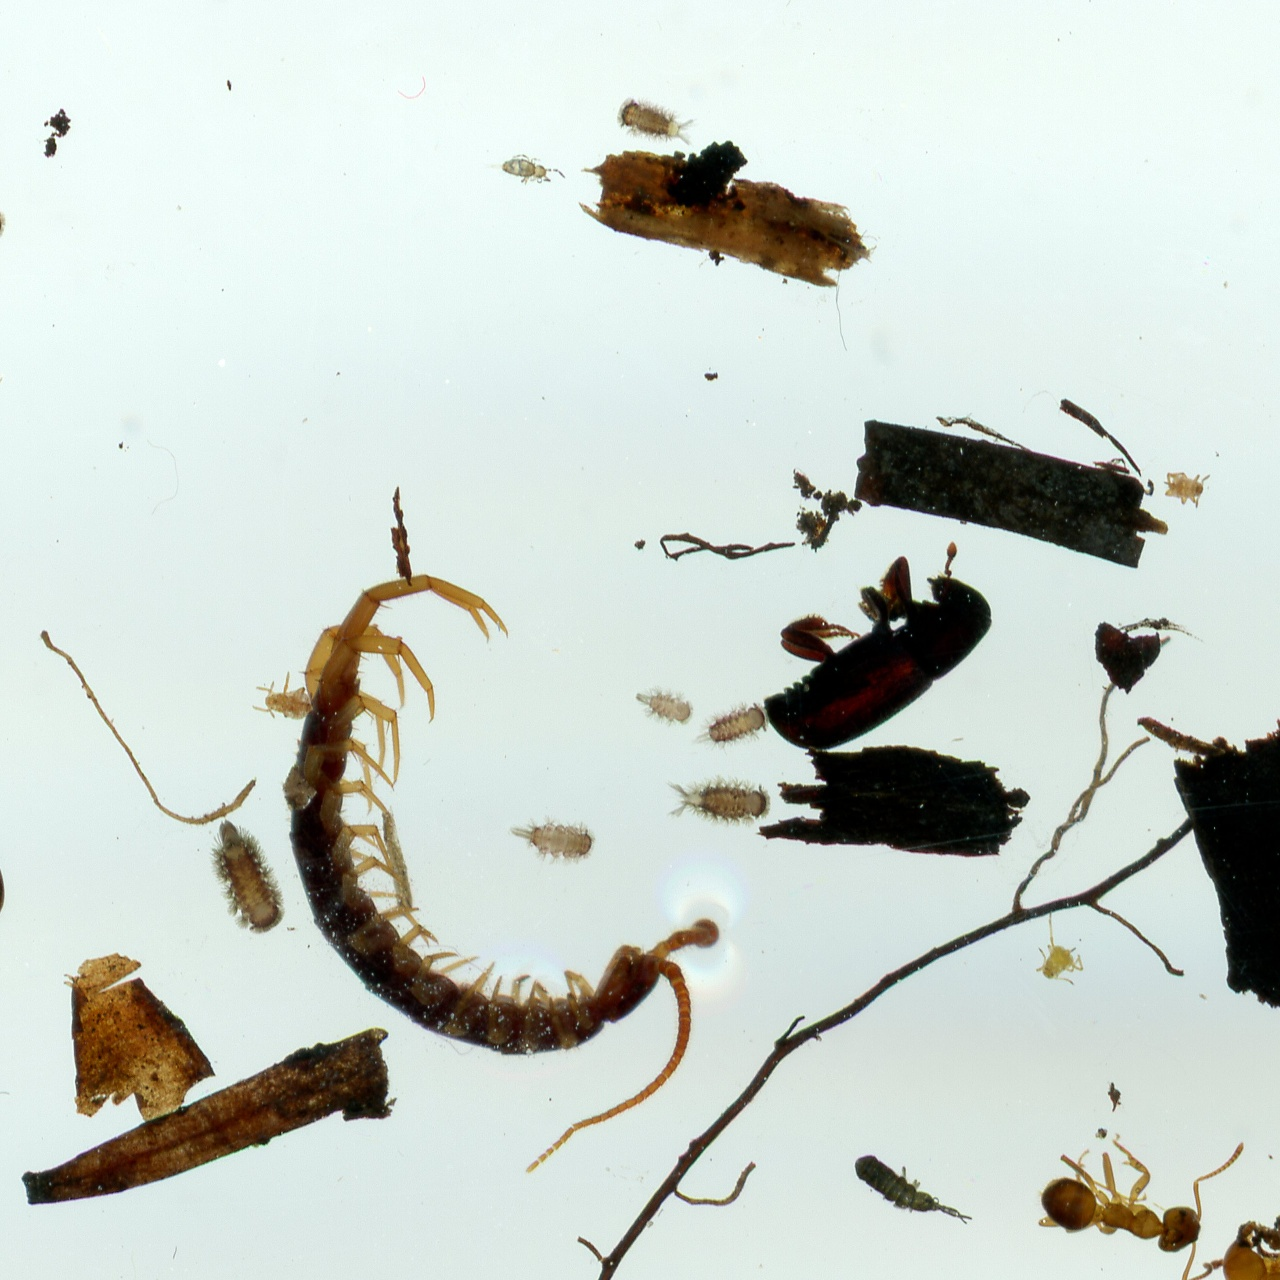arthropod: (302, 867, 709, 1058), (774, 540, 982, 753), (1027, 1136, 1248, 1280), (852, 1137, 979, 1228), (200, 816, 282, 934), (656, 769, 768, 823), (504, 816, 602, 867), (617, 90, 700, 145), (1221, 1208, 1280, 1280), (1034, 915, 1085, 988), (627, 682, 697, 727), (496, 150, 570, 190), (701, 695, 754, 750), (1156, 468, 1212, 510)
